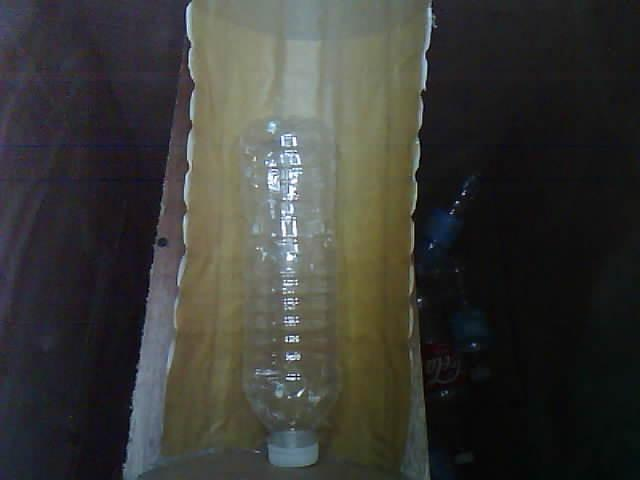small_bottle: (219, 112, 357, 480)
